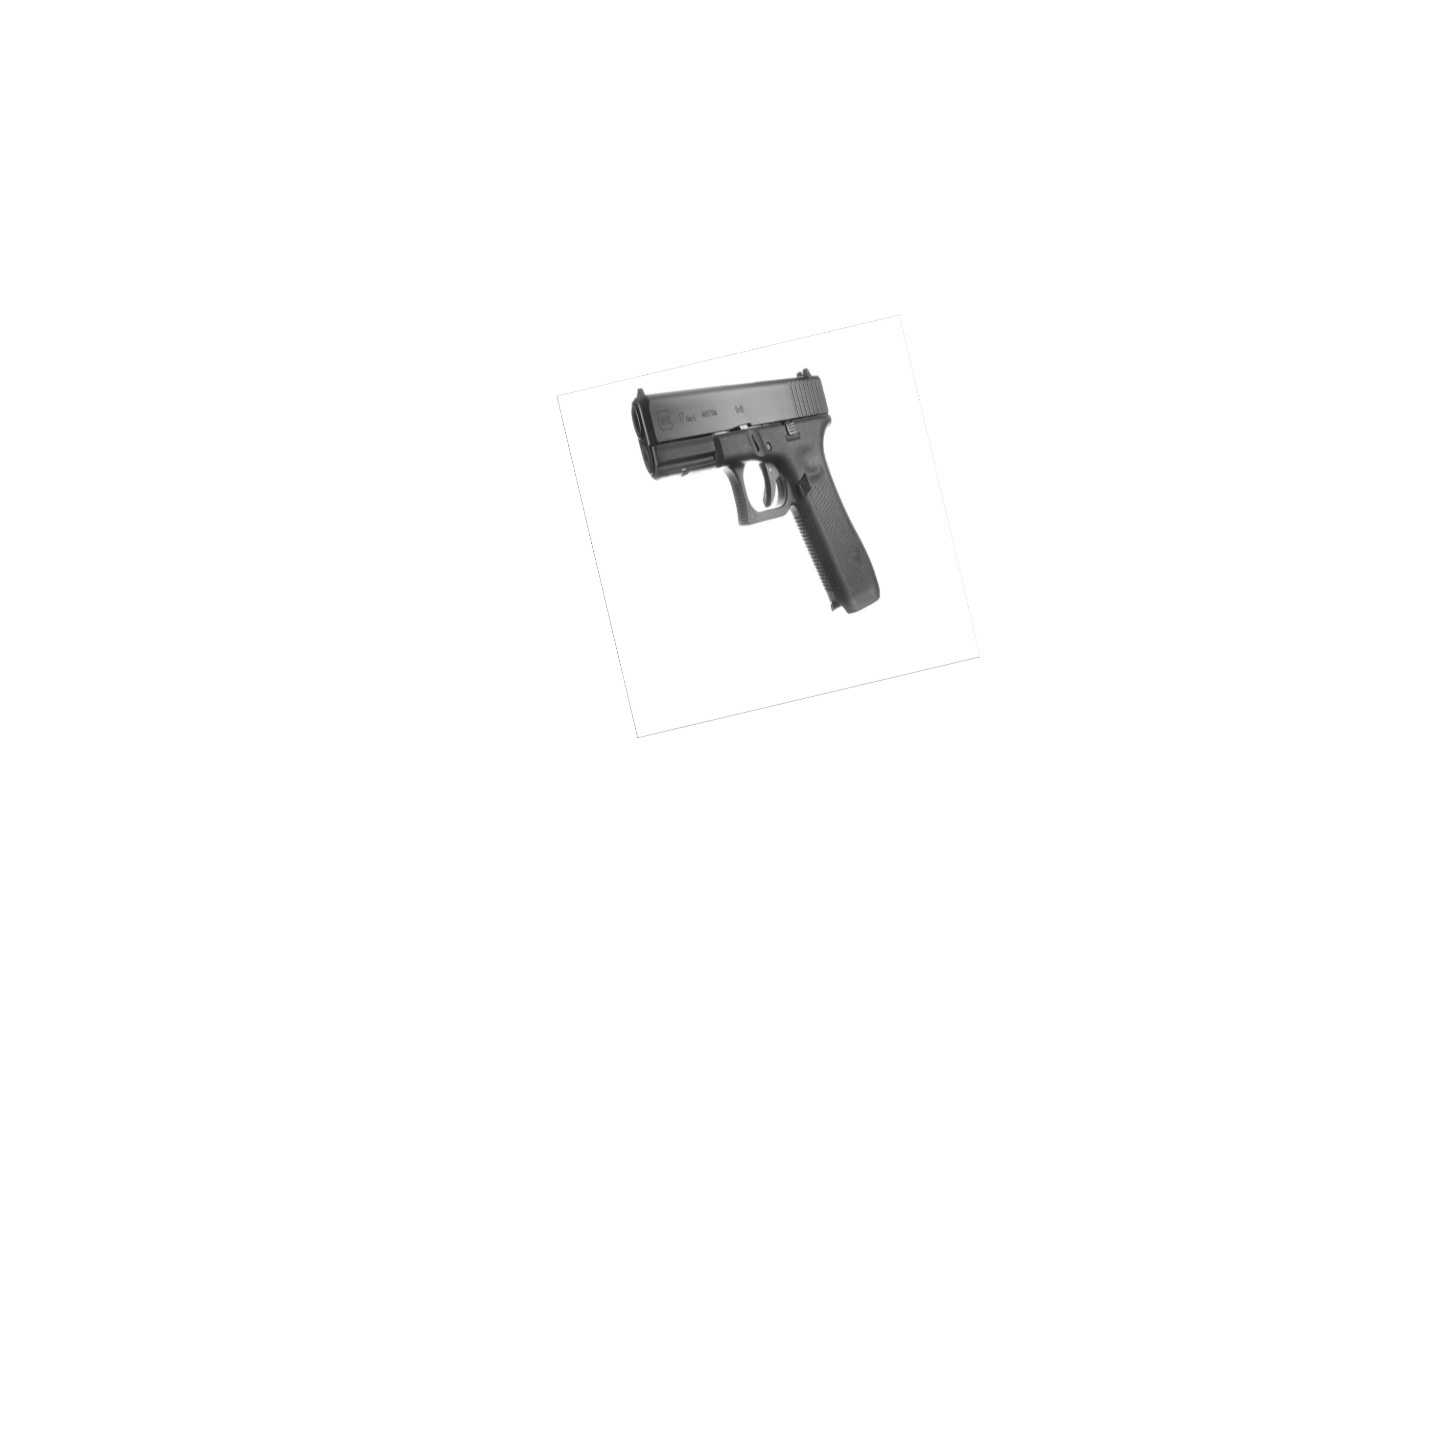gun: (629, 365, 880, 615)
